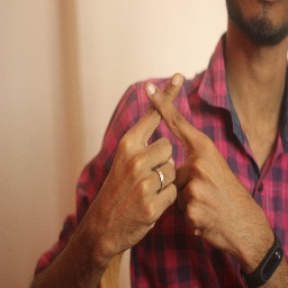X: (117, 64, 219, 177)
